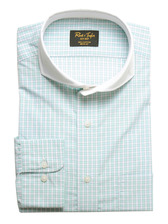clothoes: (8, 10, 158, 214)
